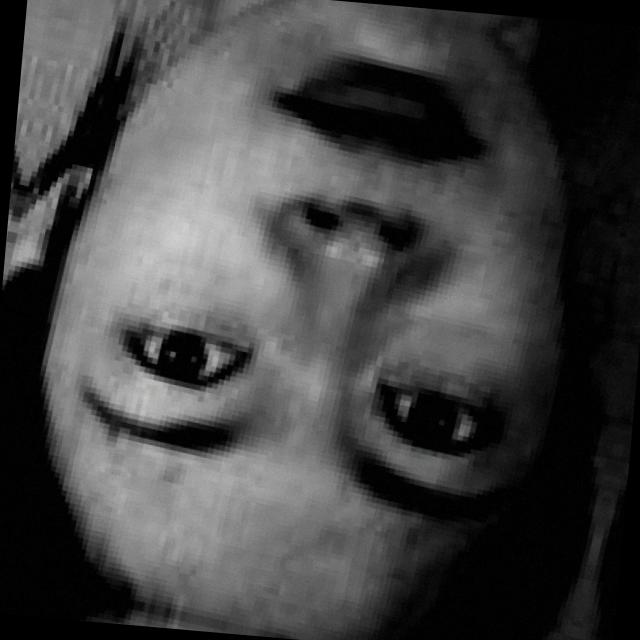fear: (56, 8, 564, 615)
